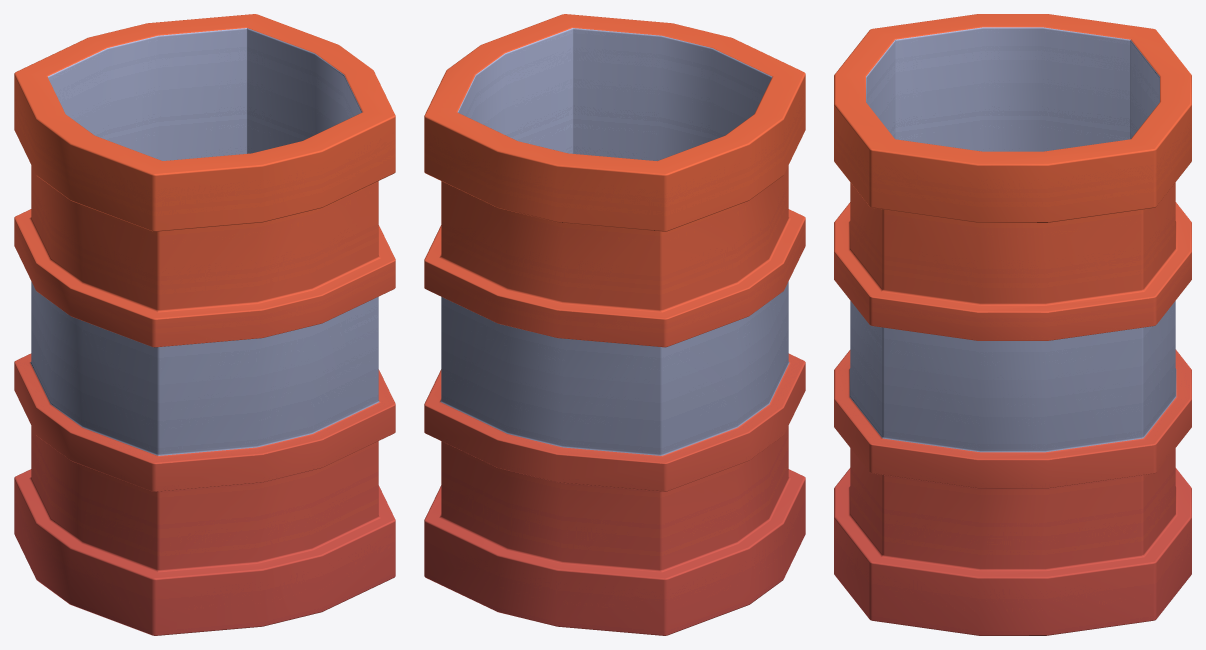
Rendered from barrel-open.glb.
The picture shows the model from 3 angles, left to right: view 1: azimuth 30°, elevation 25°; view 2: azimuth 150°, elevation 25°; view 3: azimuth 270°, elevation 25°; orthographic projection. The views are drawn at different scales.
Visible parts, largest first — view 1: barrel-open; view 2: barrel-open; view 3: barrel-open.
Boxes of the visible parts, x1=… form: barrel-open: x1=14, y1=14, x2=395, y2=635; barrel-open: x1=424, y1=14, x2=805, y2=635; barrel-open: x1=834, y1=14, x2=1191, y2=635.
Size of the model in its own units: 0.2365 by 0.344 by 0.2365.
Materials: 1 (1 with a texture image).
